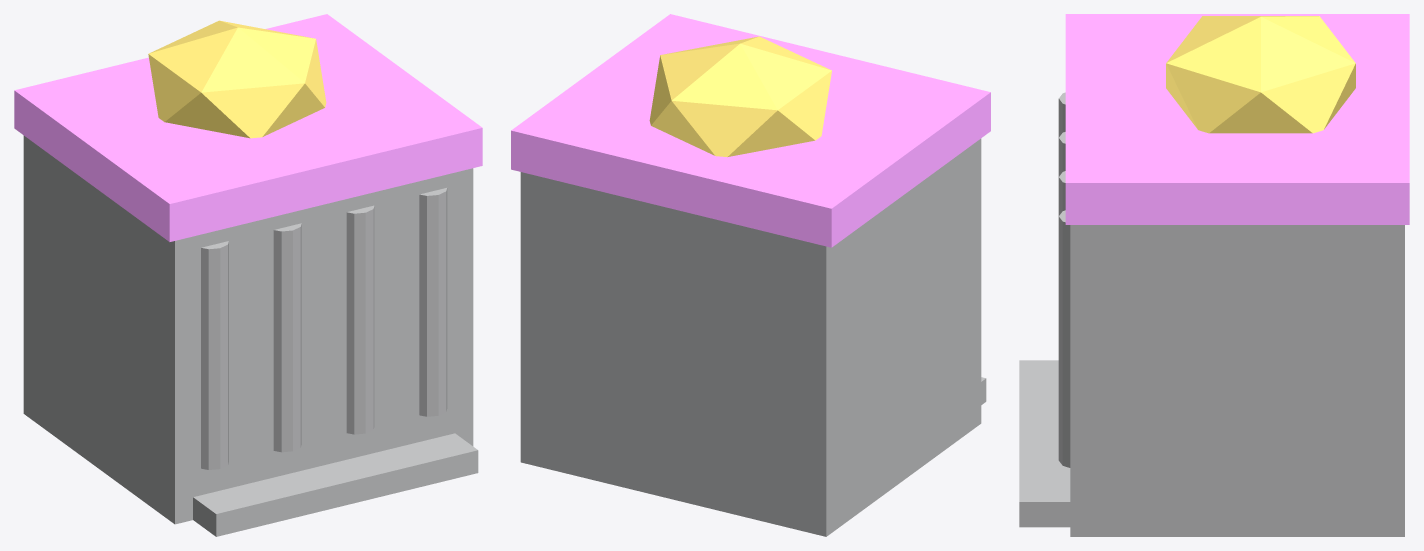
Rendered from museum.glb.
3 views of the same model, side by side, from view 1: azimuth 30°, elevation 25°; view 2: azimuth 150°, elevation 25°; view 3: azimuth 270°, elevation 25° (orthographic). The views are drawn at different scales.
Parts seen in each view (by area): view 1: museum; view 2: museum; view 3: museum.
Boxes of the visible parts, box(x1,y1,x2,y2) form: museum: box(14, 14, 482, 536); museum: box(511, 14, 990, 536); museum: box(1019, 14, 1409, 536).
Bounding box in the file's own units: 0.86 × 1.04 × 0.84.
